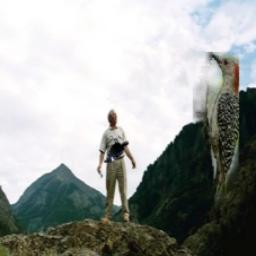Crow: (104, 134, 129, 163)
Woodpecker: (194, 53, 240, 210)
